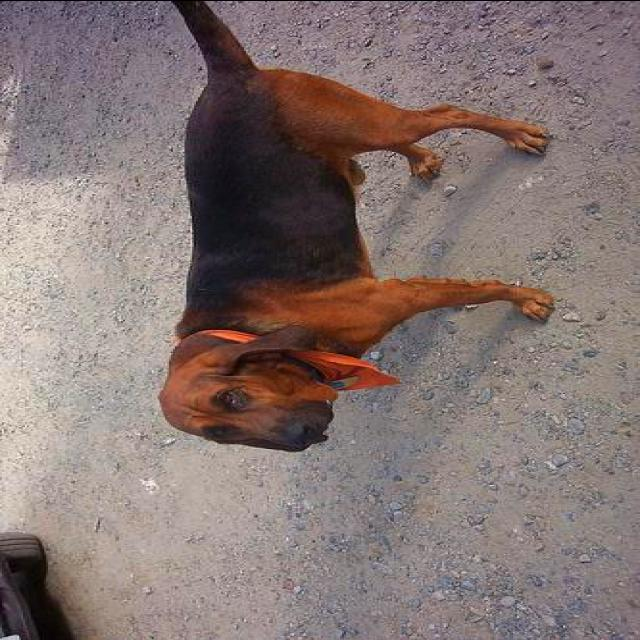bloodhound: (156, 0, 550, 452)
